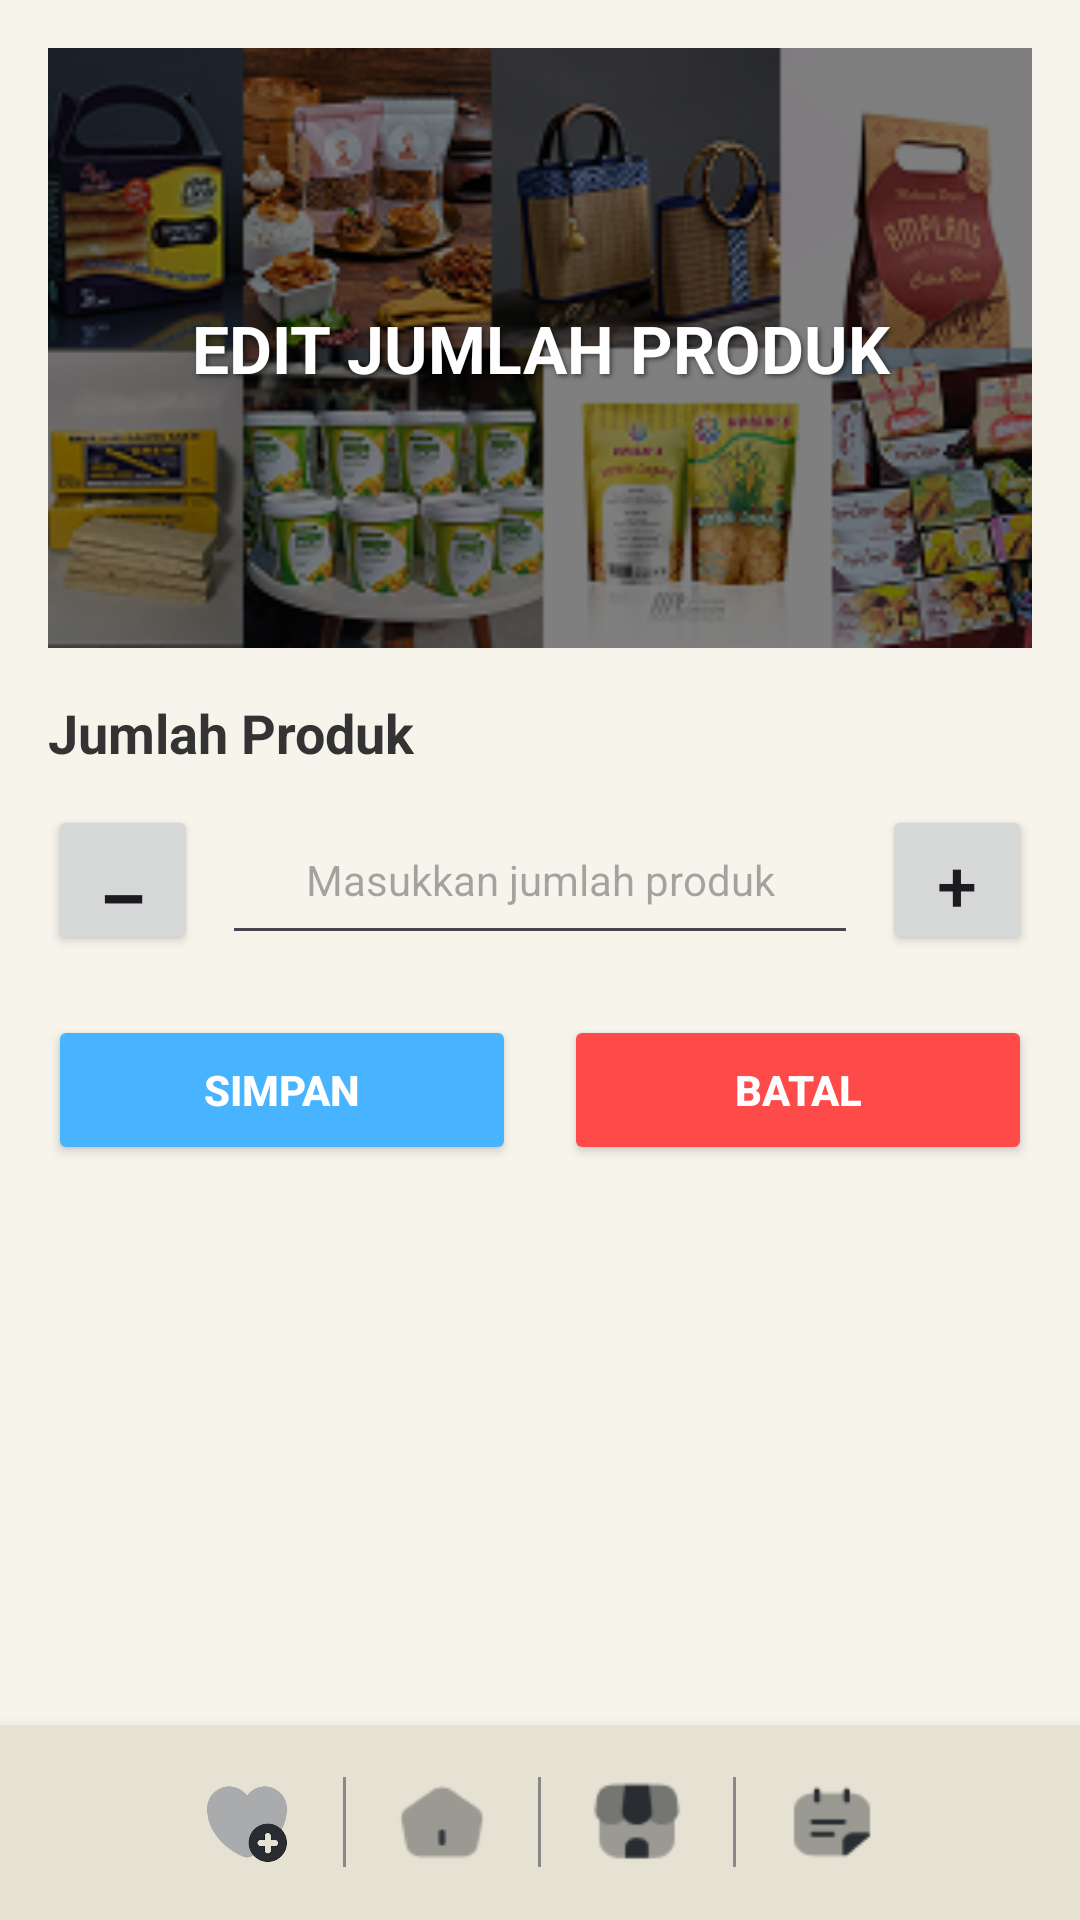

Screen size 1080*1920. Icon name, then its center in pixels as (x=x, y=y):
home: (x=442, y=1822)
shop: (x=637, y=1821)
